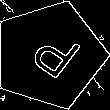P_SW: (18, 24, 80, 86)
